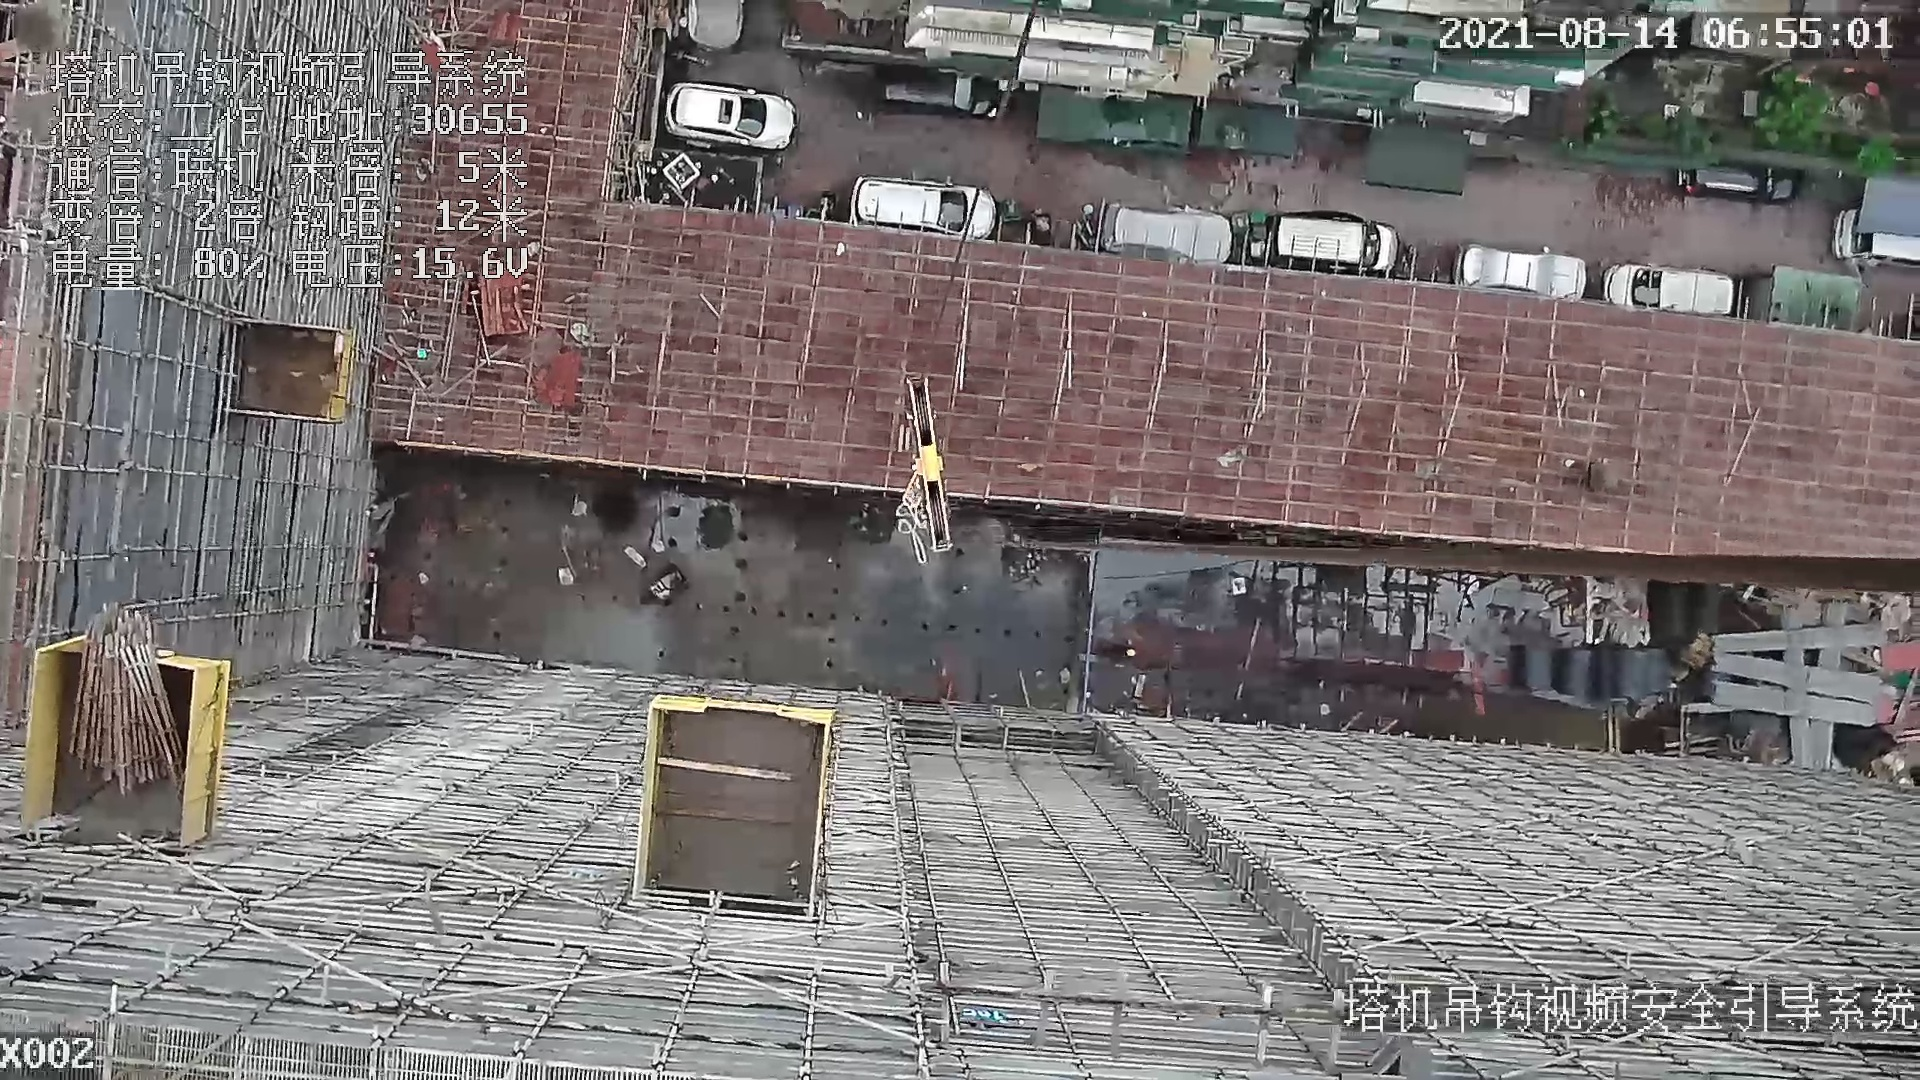hook: (899, 368, 971, 555)
rebar: (1712, 653, 1878, 705), (1716, 680, 1874, 727), (1712, 622, 1883, 654)
scaffold: (69, 604, 185, 796)
